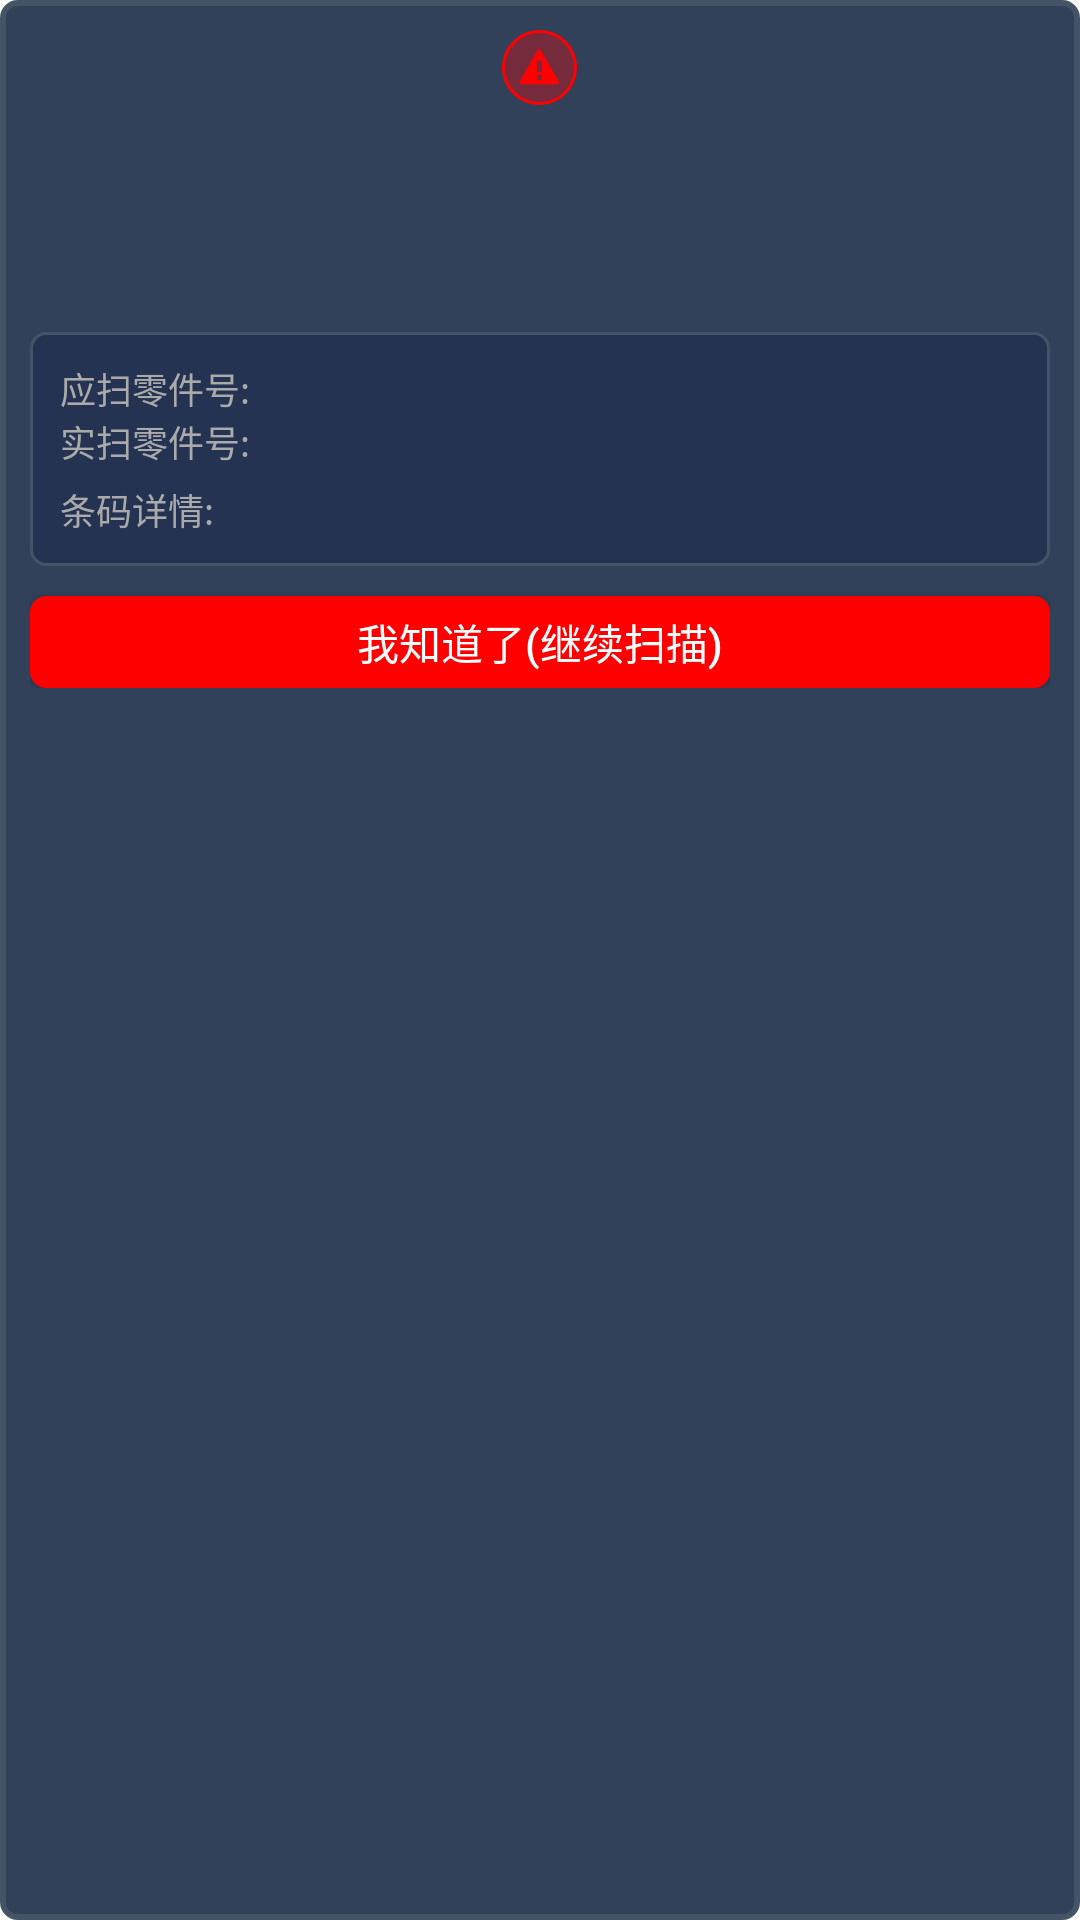

Locate icon controls on the screen. Image size 1080 x 1920, boxes as (x1, y1, x2, y2).
warning: (502, 30, 577, 105)
